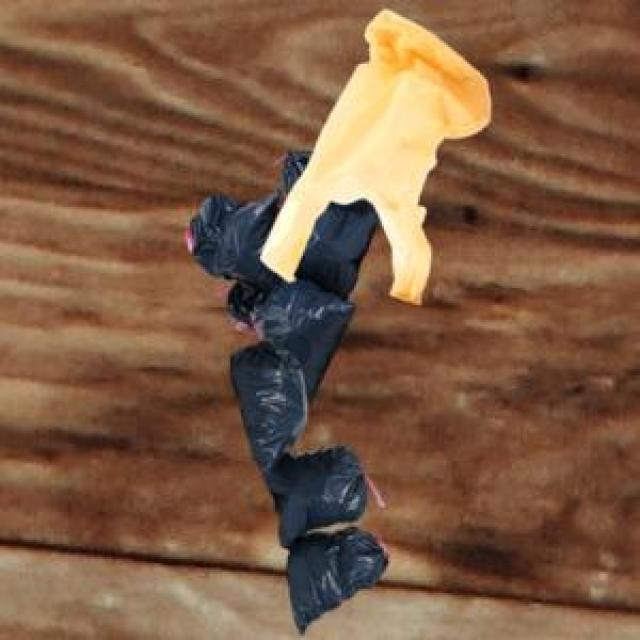miscellaneous trash: (256, 6, 486, 299), (181, 147, 376, 401), (226, 337, 384, 632)
